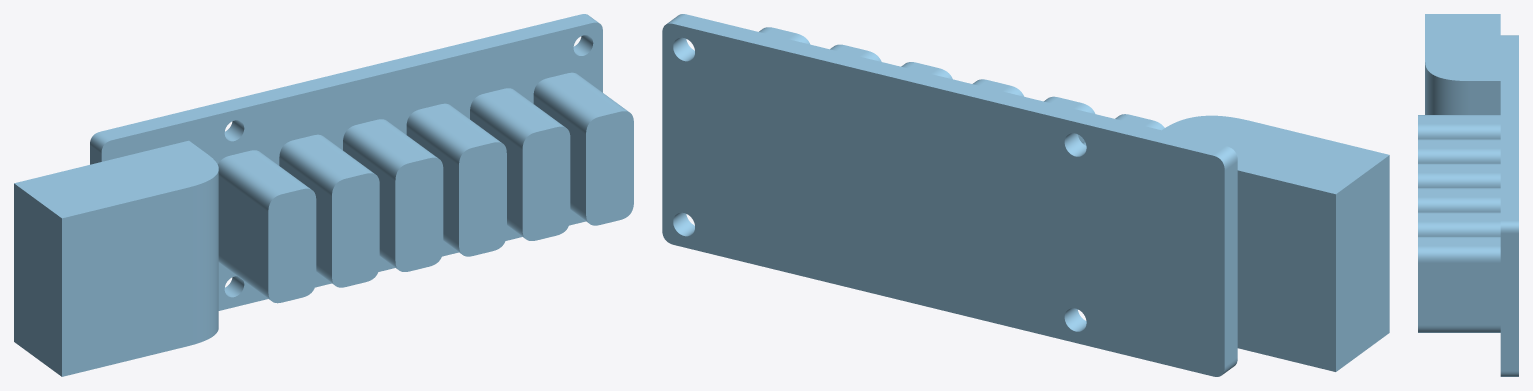
3 renders of one model, left to right at view 1: azimuth 30°, elevation 25°; view 2: azimuth 150°, elevation 25°; view 3: azimuth 270°, elevation 25°, orthographic. The views are drawn at different scales.
Parts seen in each view (by area): view 1: mesh4367, mesh4362, mesh4364, mesh4361, mesh4351, mesh4414, mesh4378, mesh4396, mesh4405, mesh4387, mesh4369, mesh4366 (+18 smaller); view 2: mesh4348, mesh4360, mesh4361, mesh4364, mesh4351, mesh4359; view 3: mesh4374, mesh4364, mesh4351, mesh4350, mesh4366, mesh4372, mesh4381, mesh4390, mesh4408, mesh4421, mesh4399, mesh4365 (+15 smaller).
Boxes of the visible parts, x1,y1,x2,y2 form: mesh4367: [101, 22, 602, 310]; mesh4362: [62, 188, 187, 376]; mesh4364: [14, 140, 218, 218]; mesh4361: [14, 183, 61, 376]; mesh4351: [101, 14, 591, 139]; mesh4414: [268, 188, 316, 303]; mesh4378: [522, 126, 570, 240]; mesh4396: [395, 157, 443, 271]; mesh4405: [332, 173, 379, 287]; mesh4387: [459, 142, 506, 256]; mesh4369: [586, 111, 633, 225]; mesh4366: [187, 171, 218, 346]; mesh4348: [662, 23, 1224, 376]; mesh4360: [1237, 170, 1335, 371]; mesh4361: [1336, 155, 1389, 371]; mesh4364: [1162, 115, 1388, 194]; mesh4351: [674, 14, 1225, 155]; mesh4359: [1224, 161, 1237, 366]; mesh4374: [1418, 263, 1500, 324]; mesh4364: [1425, 14, 1500, 80]; mesh4351: [1500, 36, 1518, 220]; mesh4350: [1500, 233, 1518, 370]; mesh4366: [1425, 62, 1469, 114]; mesh4372: [1418, 246, 1500, 262]; mesh4381: [1418, 221, 1500, 236]; mesh4390: [1418, 197, 1500, 212]; mesh4408: [1418, 148, 1500, 163]; mesh4421: [1418, 124, 1500, 139]; mesh4399: [1418, 173, 1500, 187]; mesh4365: [1470, 81, 1500, 114].
Size of the model in its own units: 0.0603 by 0.0192 by 0.0114.
